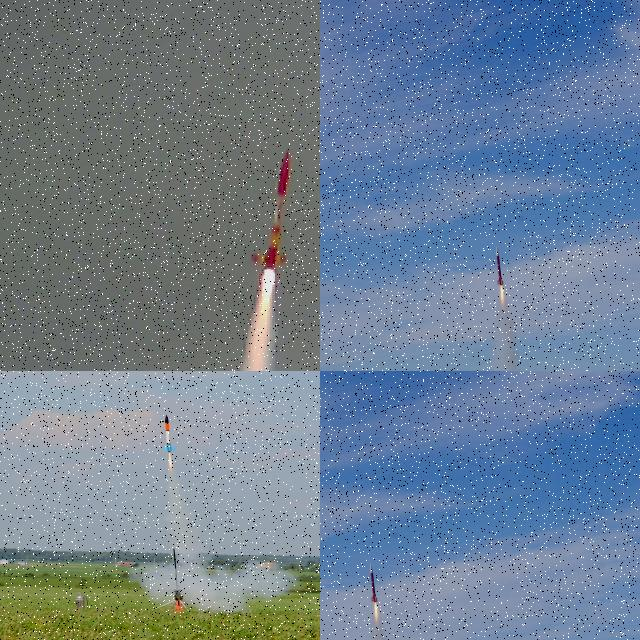Rocket: (250, 149, 294, 269), (163, 414, 177, 453), (369, 564, 378, 603), (496, 247, 504, 286)
